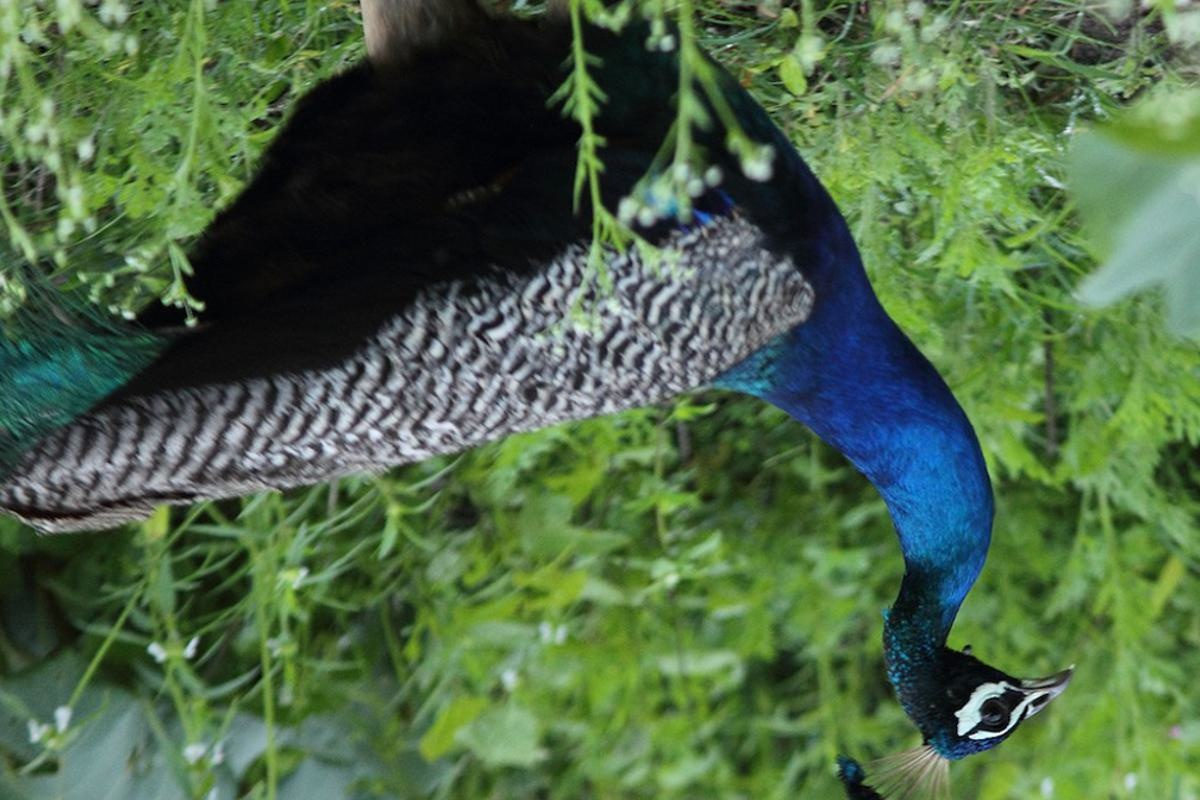peacock: (143, 21, 1069, 787)
